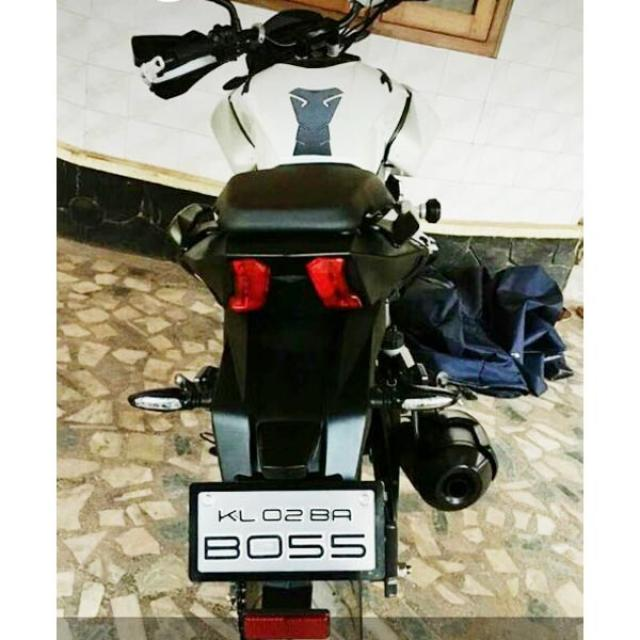license_plate: (187, 479, 383, 581)
